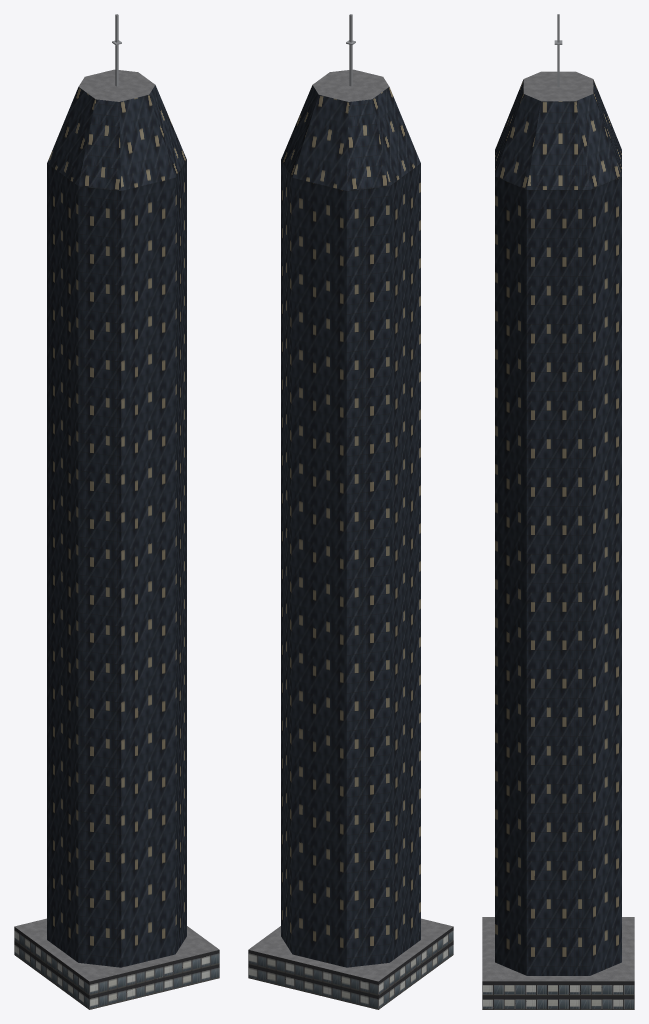
File: 050_supertall_chamfer.glb
The picture shows the model from 3 angles, left to right: view 1: azimuth 30°, elevation 25°; view 2: azimuth 150°, elevation 25°; view 3: azimuth 270°, elevation 25°; orthographic projection.
Visible parts, largest first — view 1: 050_supertall_chamfer; view 2: 050_supertall_chamfer; view 3: 050_supertall_chamfer.
Part boxes in pixels (x1,y1,x2,y2): 050_supertall_chamfer: (14, 14, 219, 1009); 050_supertall_chamfer: (248, 14, 453, 1009); 050_supertall_chamfer: (482, 14, 634, 1009).
Bounding box in the file's own units: 57.6 × 402 × 57.6.
Materials: 4 (3 with a texture image).
